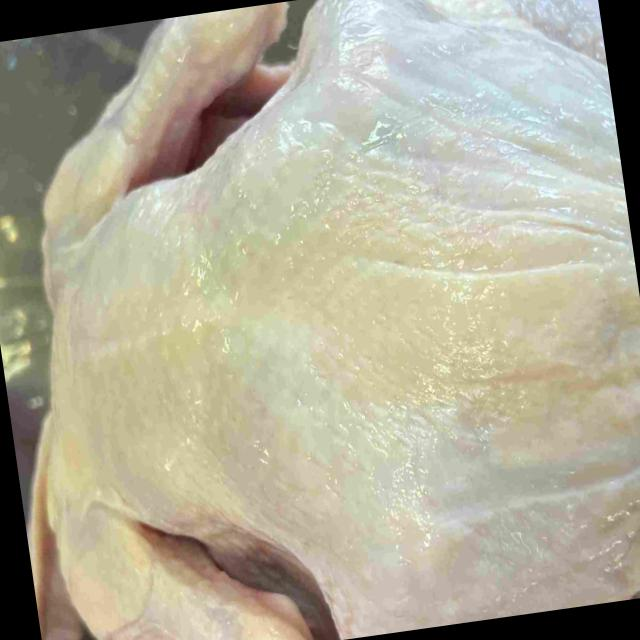back: (53, 84, 640, 587)
leg: (323, 0, 613, 107)
neck: (24, 419, 73, 640)
wing: (38, 1, 289, 281), (66, 494, 310, 640)
